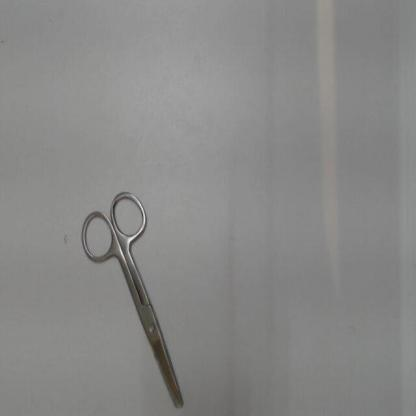Dressing Scissors: (74, 178, 195, 414)
